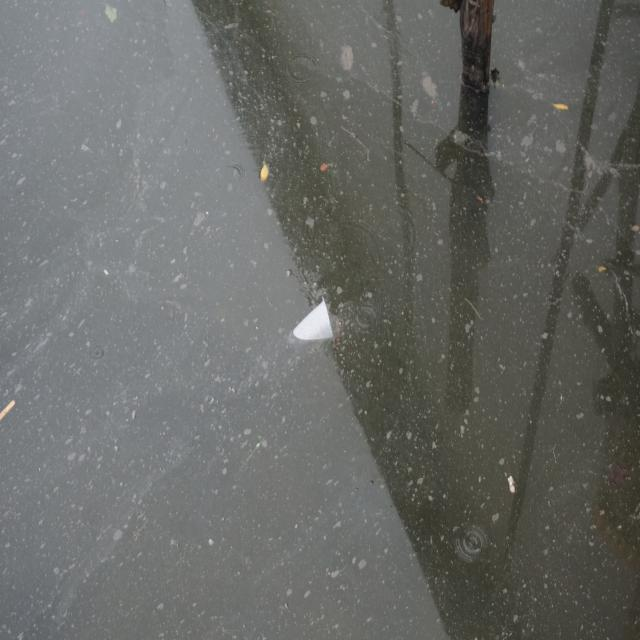Bungkus Minuman: (288, 293, 339, 353)
